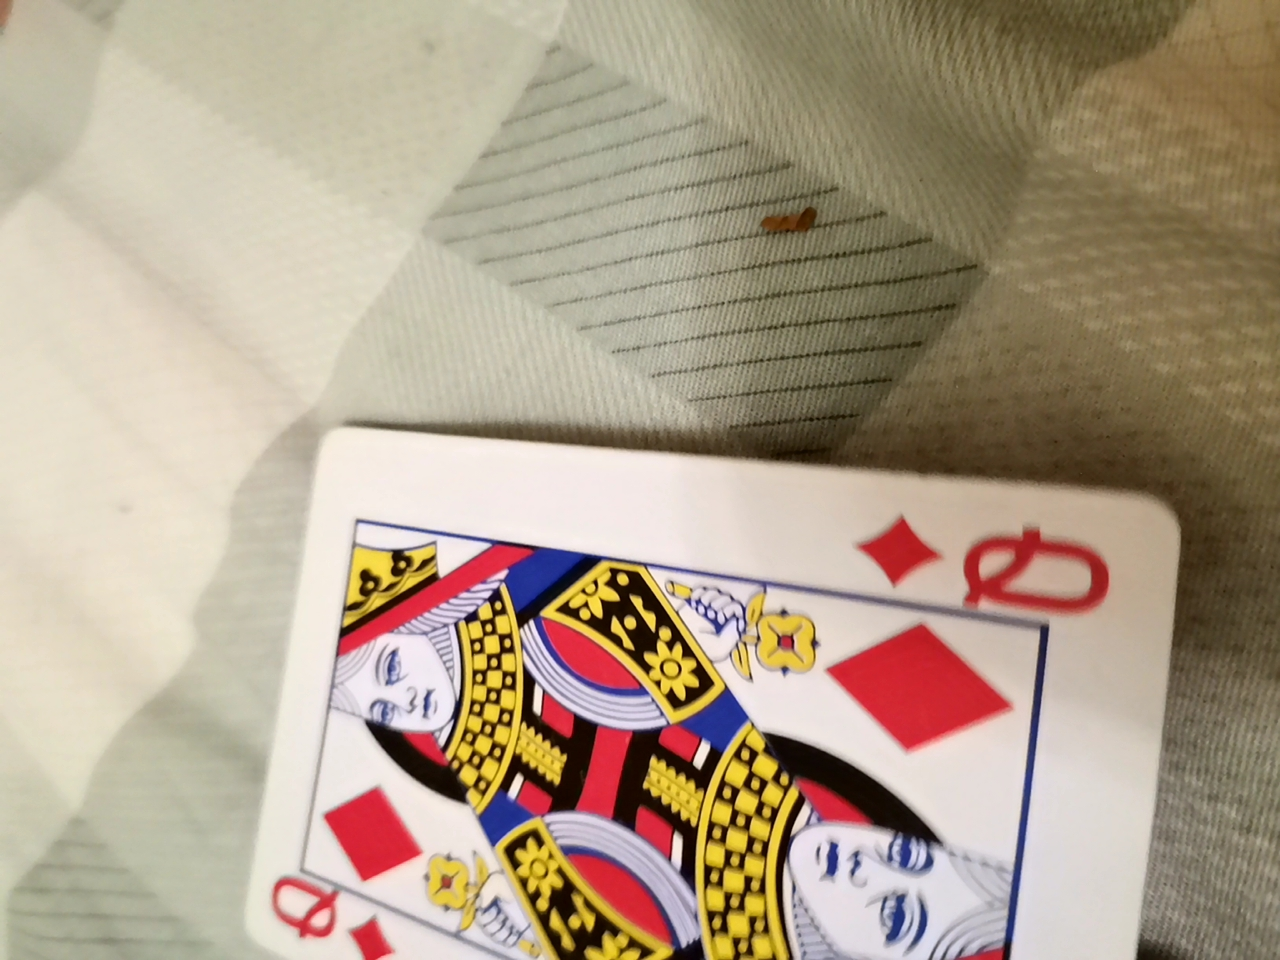fk q: (249, 419, 1183, 958)
